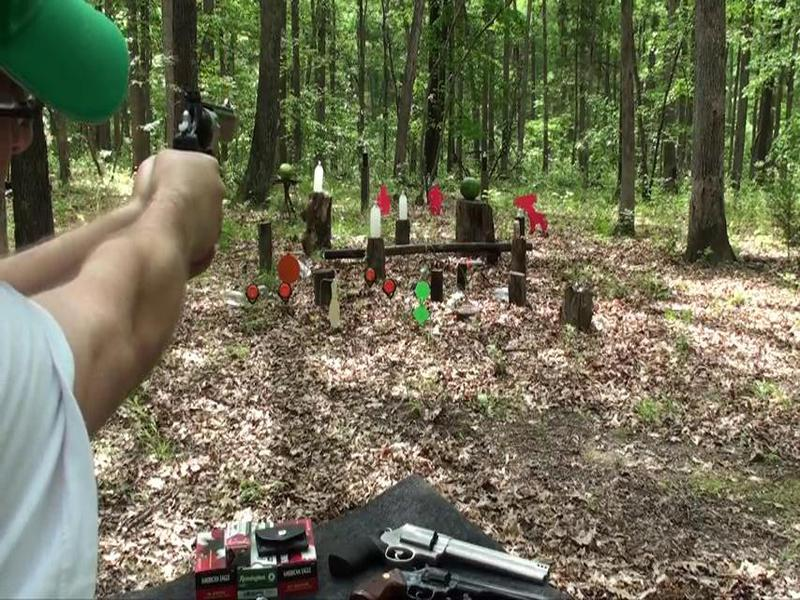Revolver: (159, 83, 253, 194)
